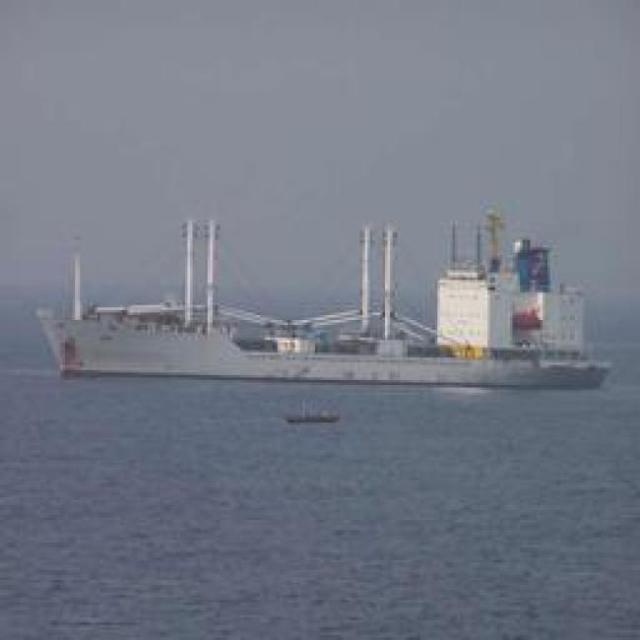boat: (28, 290, 616, 402)
